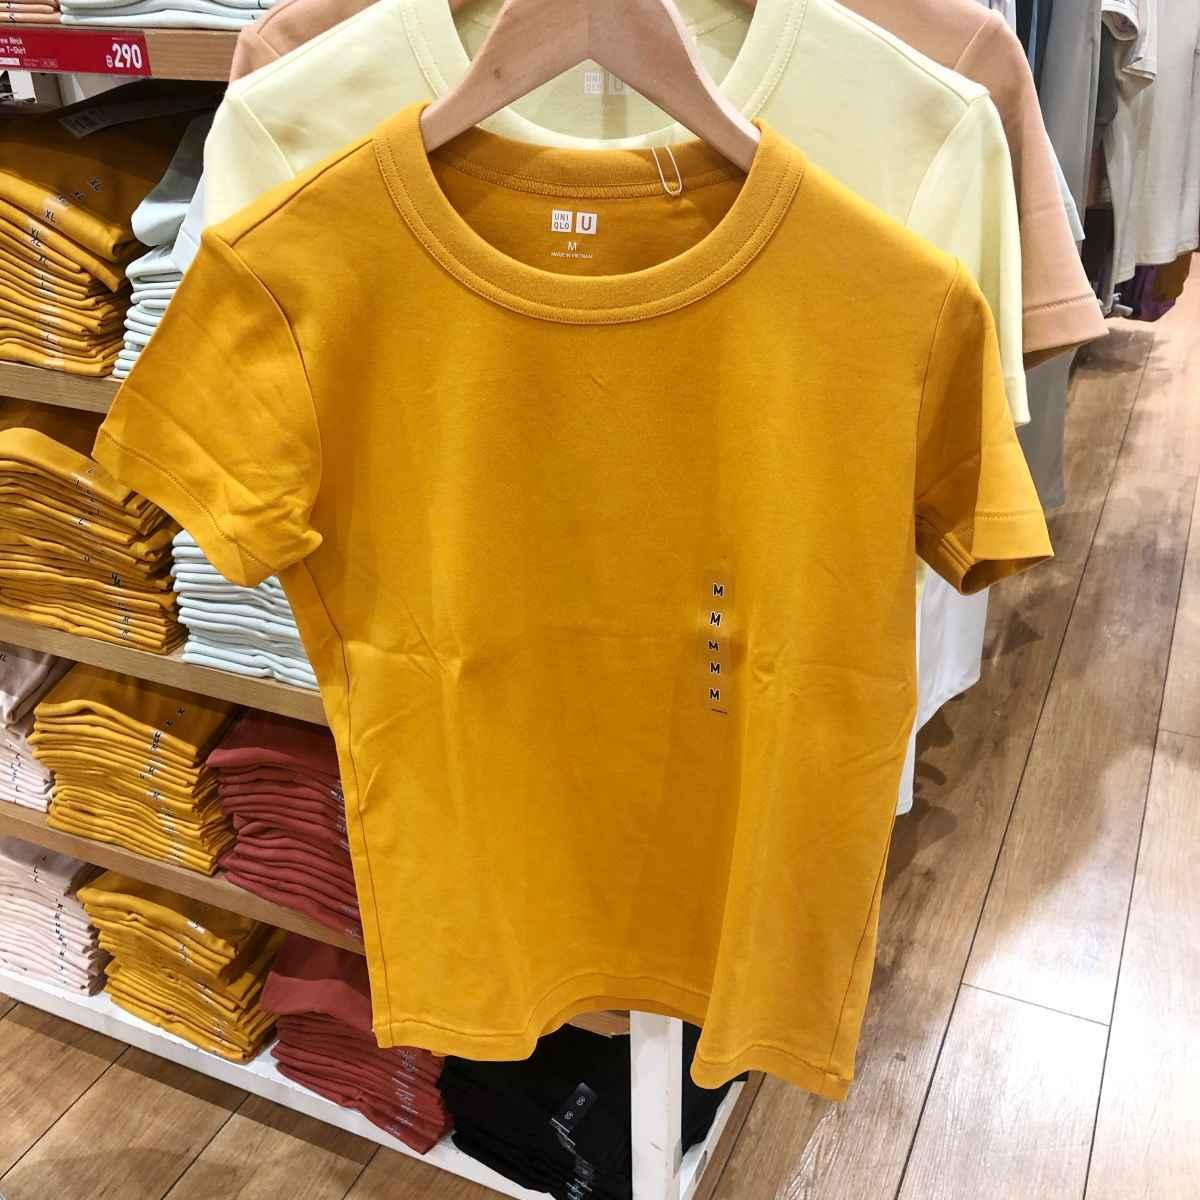Tshirt: (146, 110, 1065, 1116)
